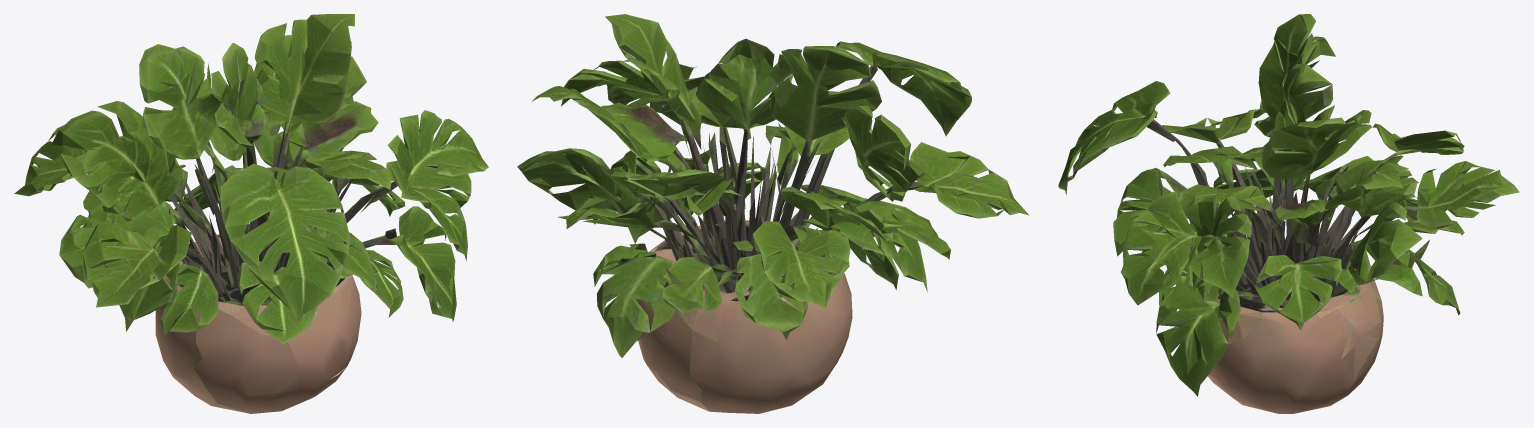
The model's file is monstera.glb.
3 views of the same model, side by side, from view 1: azimuth 30°, elevation 25°; view 2: azimuth 150°, elevation 25°; view 3: azimuth 270°, elevation 25° (orthographic). The views are drawn at different scales.
Visible parts, largest first — view 1: plant; view 2: plant; view 3: plant.
Part boxes in pixels (left/top/right/bottom): plant: left=14, top=14, right=488, bottom=413; plant: left=517, top=14, right=1029, bottom=413; plant: left=1058, top=14, right=1519, bottom=413.
Size of the model in its own units: 1.11 by 0.9 by 1.14.
1 material, 1 textured.
